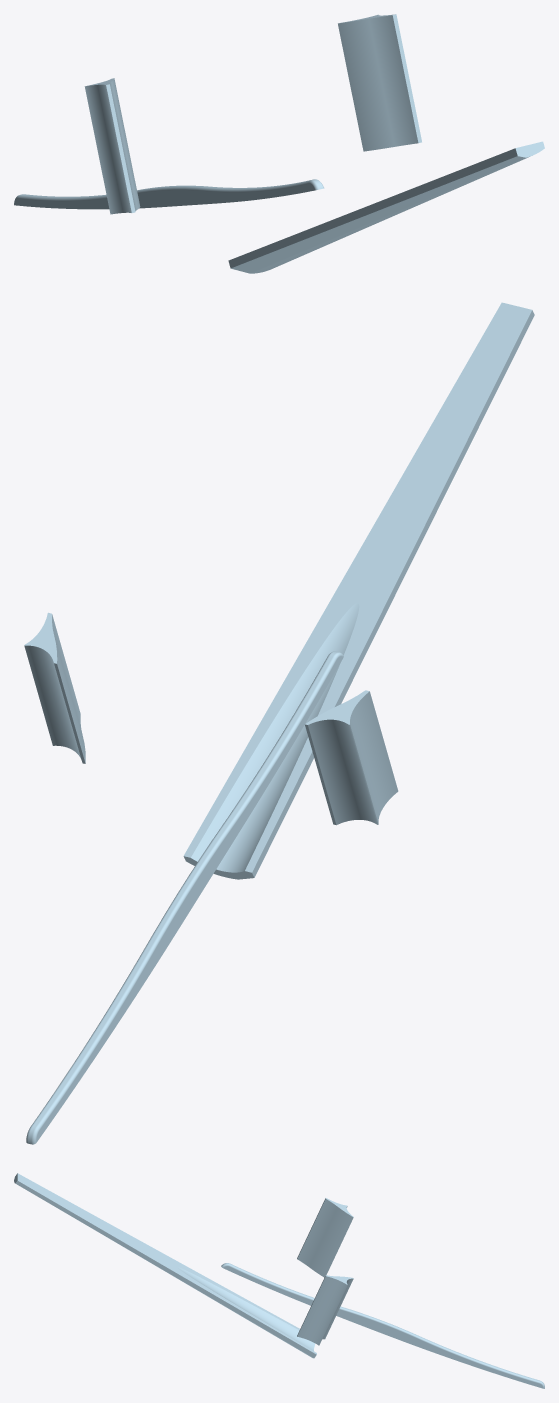
File: BaseAdj_2.obj
3 renders of one model, top to bottom at view 1: azimuth 30°, elevation 25°; view 2: azimuth 150°, elevation 25°; view 3: azimuth 270°, elevation 25°, orthographic. The views are drawn at different scales.
Size of the model in its own units: 0.3091 by 0.4007 by 0.8724.
